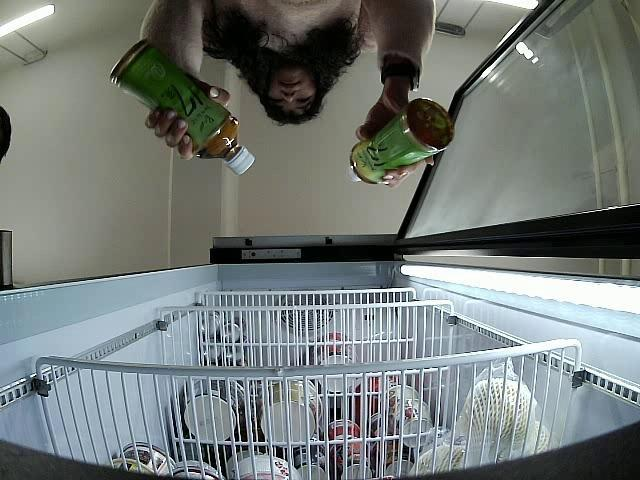19_17cha: (107, 39, 256, 172), (345, 100, 456, 186)
